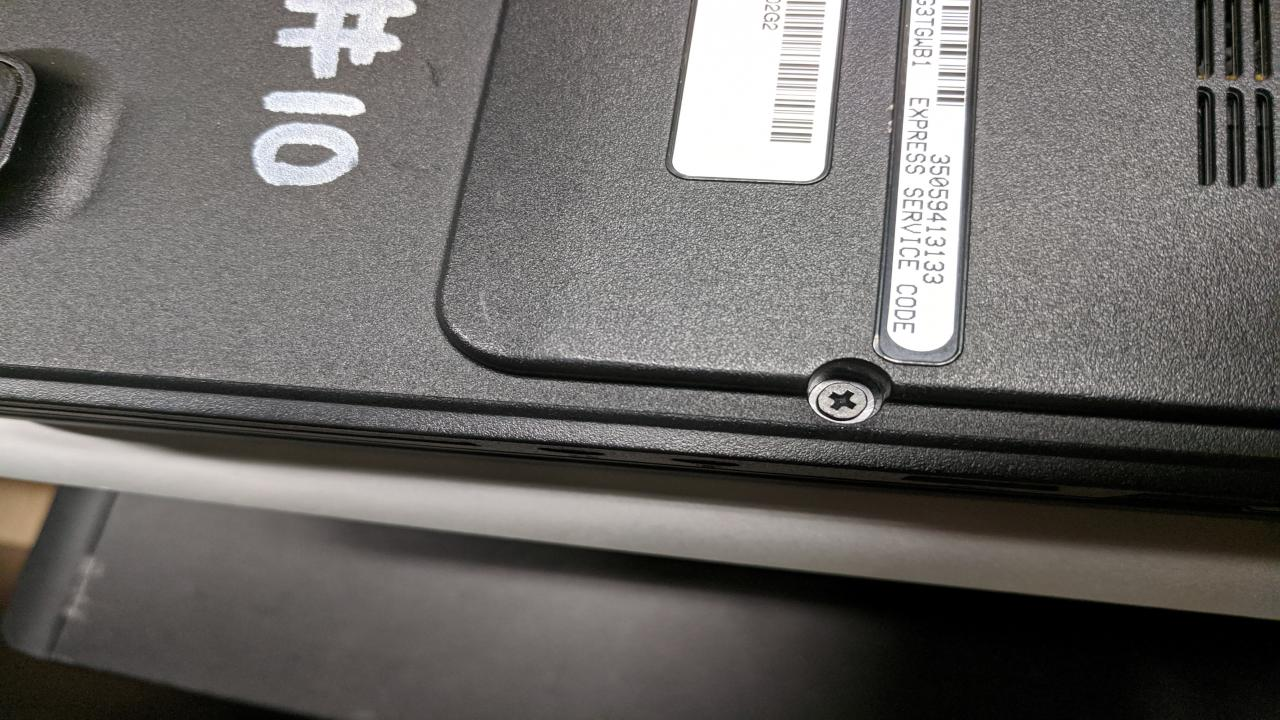CRS: (818, 380, 871, 419)
